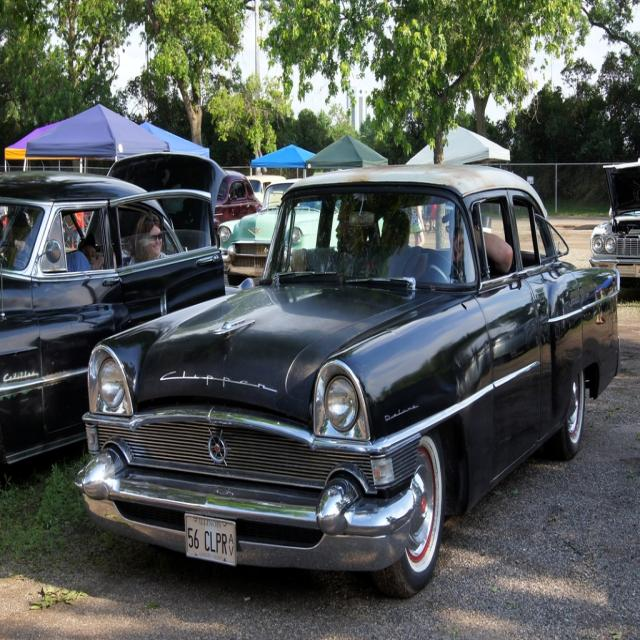car: (74, 170, 622, 597)
